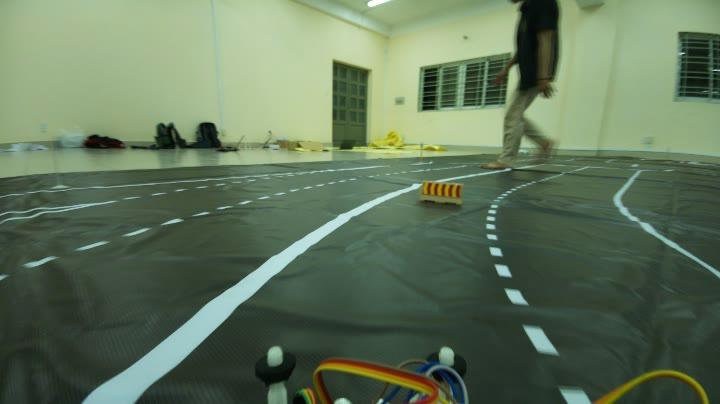roadblock: (416, 170, 468, 208)
